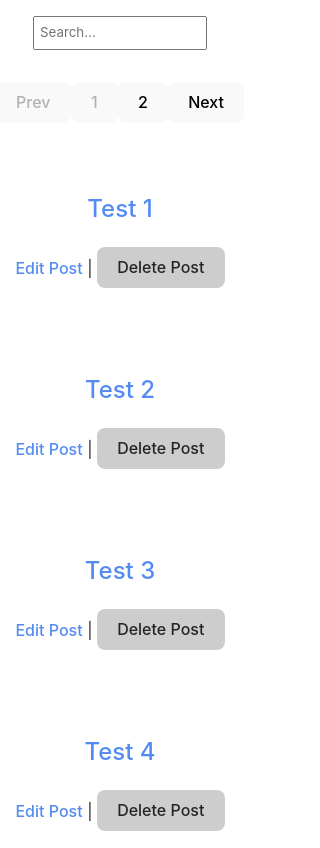
Test: PostsList › delete a post when click the Delete Post button
The width and height of the screenshot is (320, 848).
Click the button "Delete Post" below "Test 1".
click(161, 267)  # box [97,247,225,288]
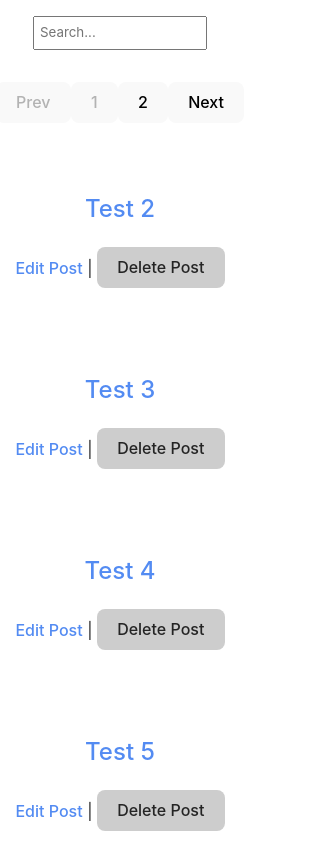
Now the link "Test 1" is gone
